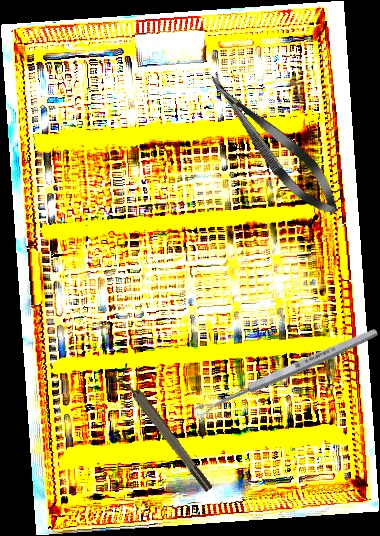Fixation Ring: (109, 363, 216, 498)
Micro Scissor: (198, 63, 349, 225)
Surgical Spoon: (193, 325, 380, 419)
